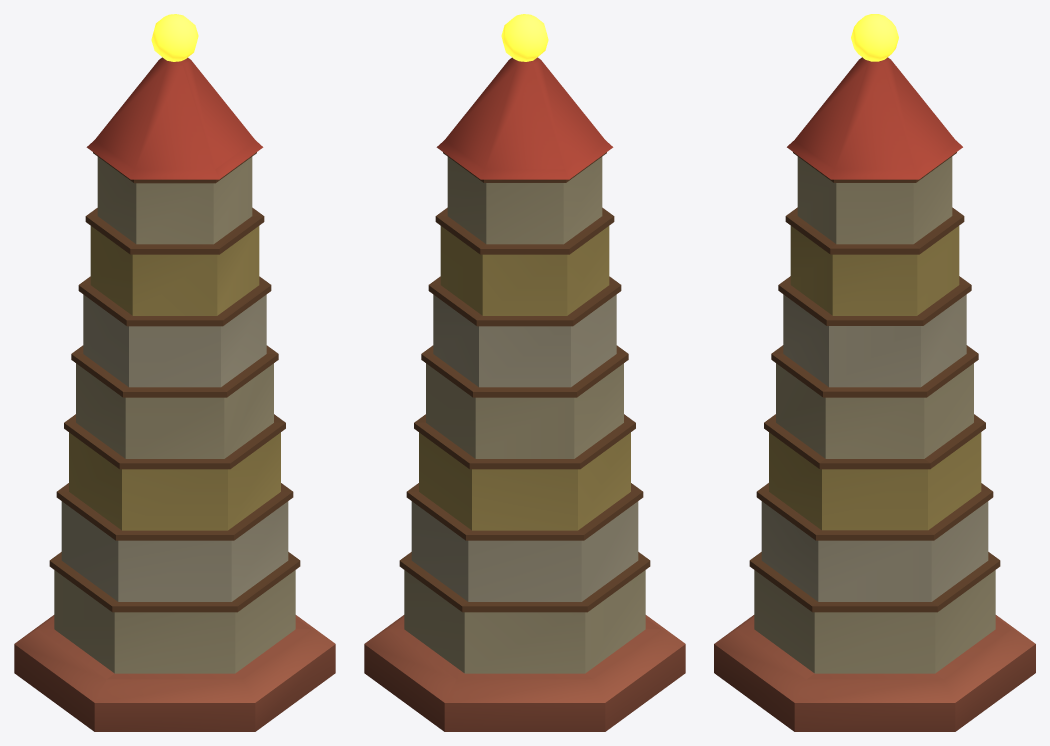
Rendered from prop.honey_hive_tower.lod1.glb.
3 views of the same model, side by side, from view 1: azimuth 30°, elevation 25°; view 2: azimuth 150°, elevation 25°; view 3: azimuth 270°, elevation 25° (orthographic).
Visible parts, largest first — view 1: honey_hive_tower; view 2: honey_hive_tower; view 3: honey_hive_tower.
Part boxes in pixels (box(x1,y1,x2,y2)): honey_hive_tower: box(14, 14, 335, 731); honey_hive_tower: box(364, 14, 685, 731); honey_hive_tower: box(714, 14, 1035, 731).
Size of the model in its own units: 6.93 by 18.03 by 8.
